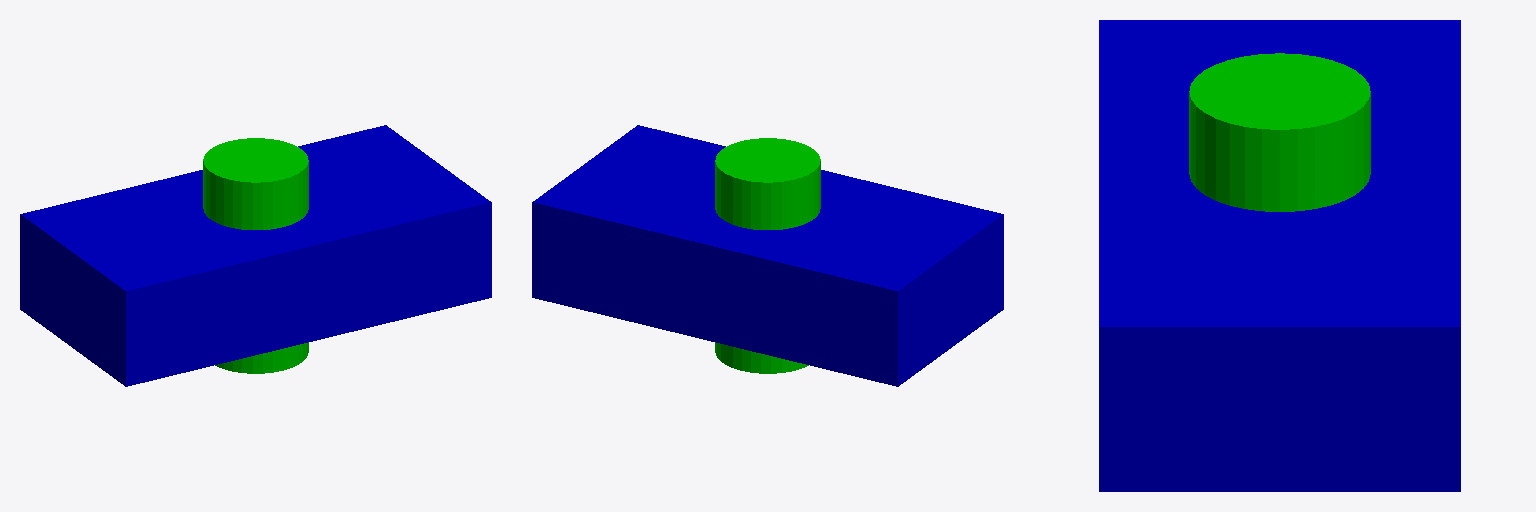
The robot description file, URDF, robot "car":
<?xml version="1.0"?>
<robot name="car">
    <link name="base_link">
        <visual>
            <geometry>
                <box size="4.0 2.0 1.0"/>
            </geometry>
            <material name="blue">
                <color rgba="0 0 .8 1"/>
            </material>
        </visual>
    </link>

    <link name="wheel_1">
        <visual>
            <geometry>
                <cylinder length="2.0" radius="0.5"/>
            </geometry>
            <material name="green">
                <color rgba="0 0.8 0 1"/>
            </material>
        </visual>
    </link>

    <joint name="base_link_to_wheel_1" type="continuous">
        <parent link="base_link"/>
        <child link="wheel_1"/>
        <axis xyz="0.0 1.0 0.0"/>
    </joint>
</robot>

--- What the picture shows (computed from the rendered views, not written in the file) ---
Views: 3 orthographic renders of the robot side by side, from view 1: azimuth 30°, elevation 25°; view 2: azimuth 150°, elevation 25°; view 3: azimuth 270°, elevation 25°.
Model car with 2 links and 1 joints (1 continuous), rooted at base_link, posed every joint at zero.
Links seen in each view (by area): view 1: base_link, wheel_1; view 2: base_link, wheel_1; view 3: base_link, wheel_1.
Link boxes in pixels (x1,y1,x2,y2): base_link: [20, 125, 491, 386]; wheel_1: [203, 138, 308, 373]; base_link: [532, 125, 1003, 386]; wheel_1: [715, 138, 820, 373]; base_link: [1099, 20, 1460, 491]; wheel_1: [1189, 53, 1370, 211].
Size in the robot's own frame: 4 by 2 by 2 metres.
Geometry: primitives only (box / cylinder / sphere), no mesh files.